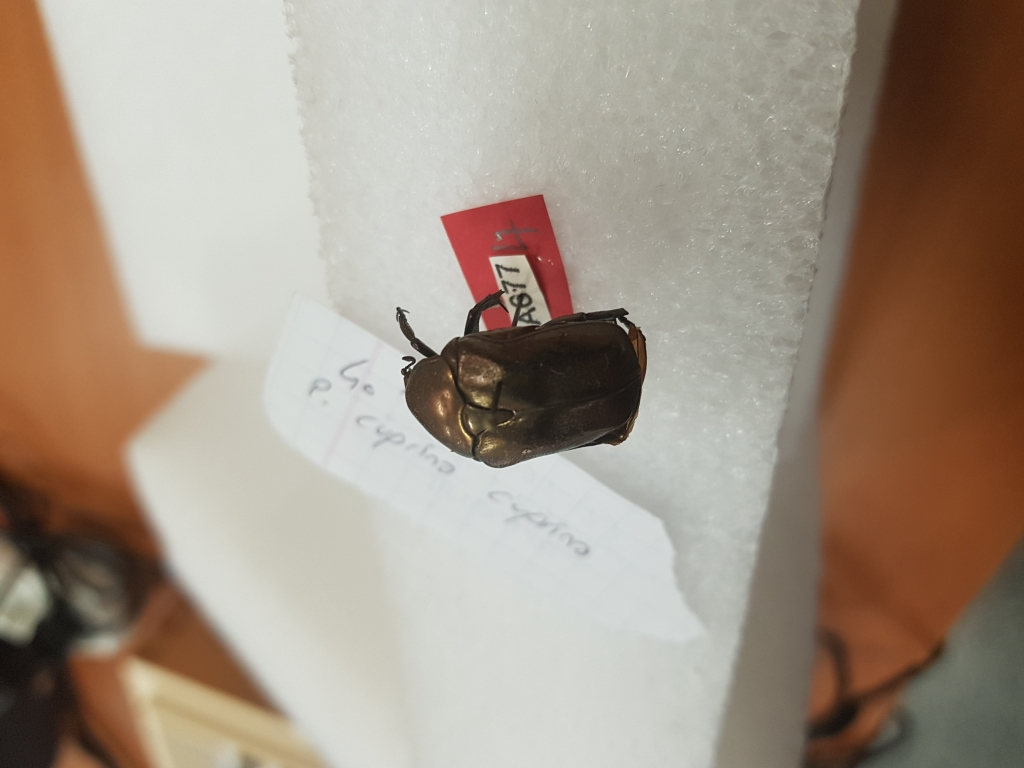Protaetia_cuprina_cuprina: (380, 283, 651, 460)
